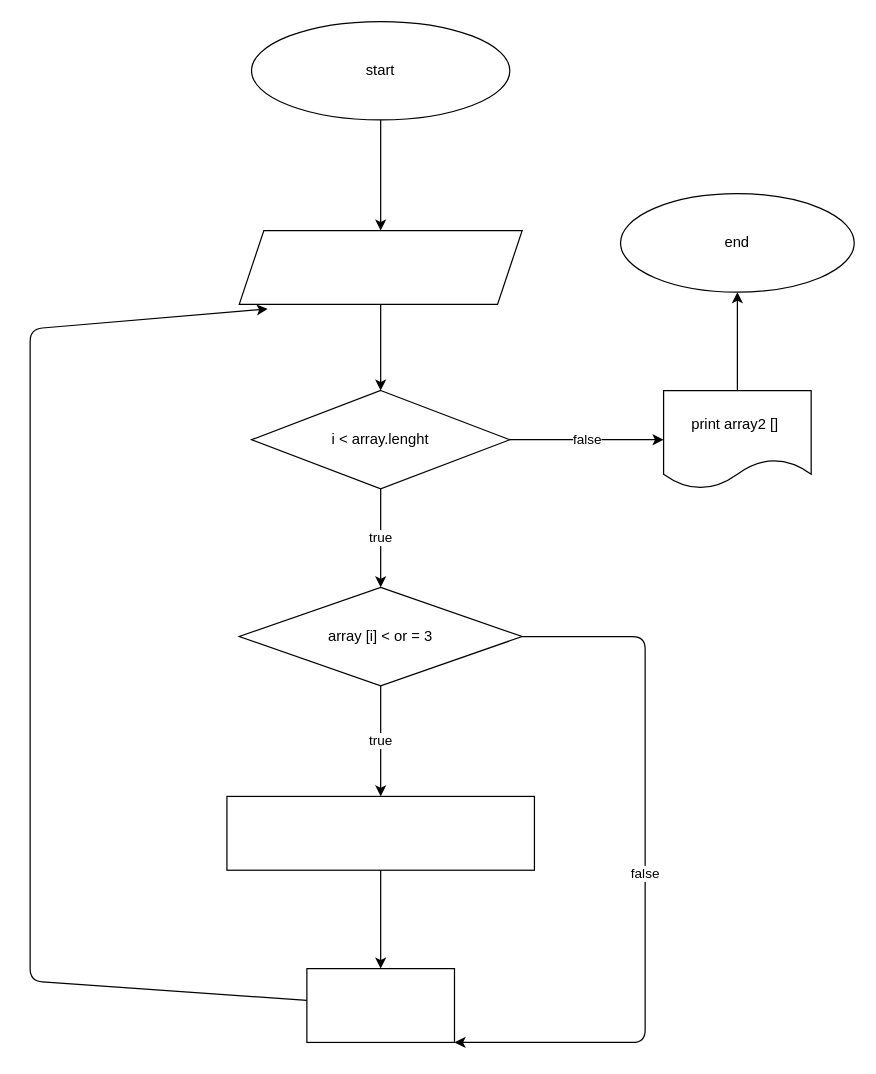
This 876x1074 diagram has some shape labels left out. The shapes that lost their labels are listed below. From the top down, each one's centre as x and y in pixels, then its label:
At [380,266]: "array1 [] array2 [] i = 0".
At [380,832]: "array2 = array [i]".
At [380,1004]: "count ++".
